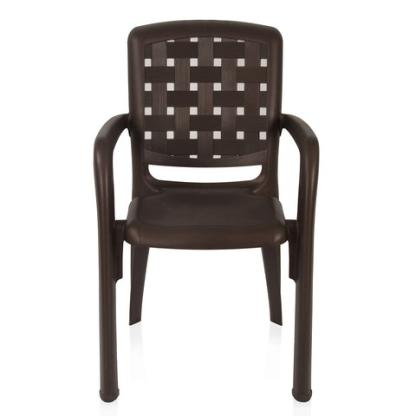chair: (93, 20, 317, 407)
